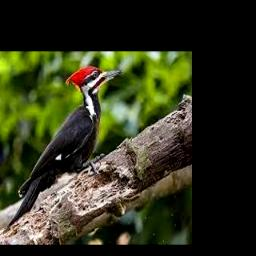Woodpecker: (6, 65, 123, 229)
